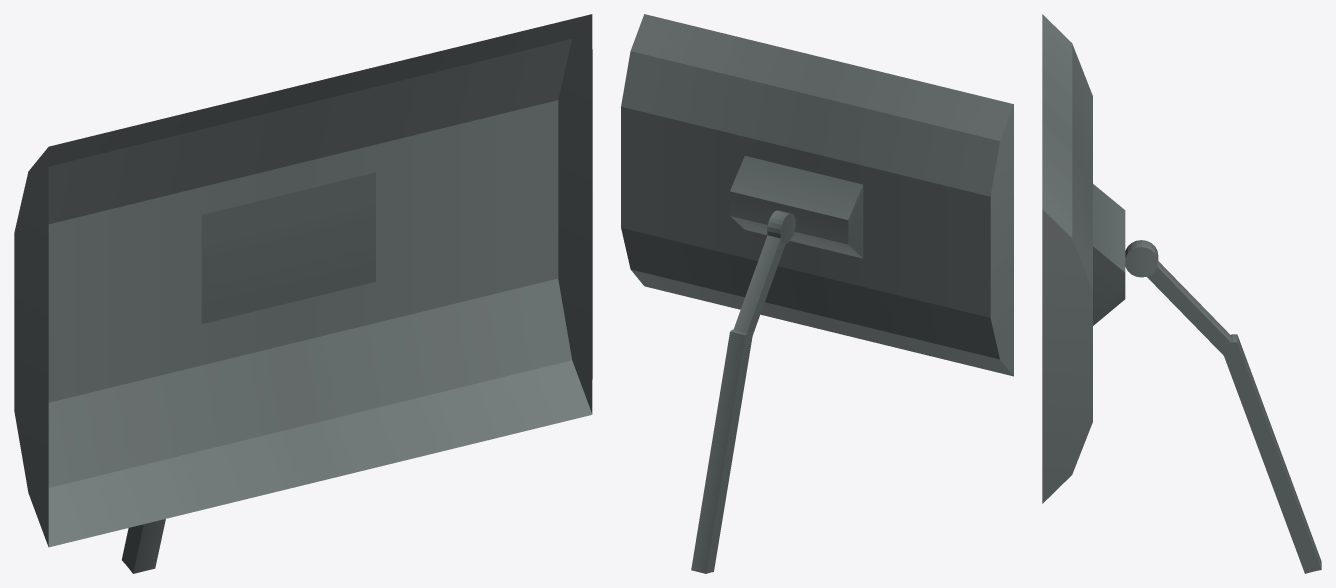
Rendered from supporto_display_allarme.fbx.
3 renders of one model, left to right at view 1: azimuth 30°, elevation 25°; view 2: azimuth 150°, elevation 25°; view 3: azimuth 270°, elevation 25°, orthographic. The views are drawn at different scales.
Visible parts, largest first — view 1: supporto_base_allarme; view 2: supporto_base_allarme; view 3: supporto_base_allarme.
Part boxes in pixels (x1,y1,x2,y2): supporto_base_allarme: (14,14,592,573); supporto_base_allarme: (621,14,1013,573); supporto_base_allarme: (1042,14,1321,573).
Bounding box in the file's own units: 40.59 × 44.36 × 24.57.
